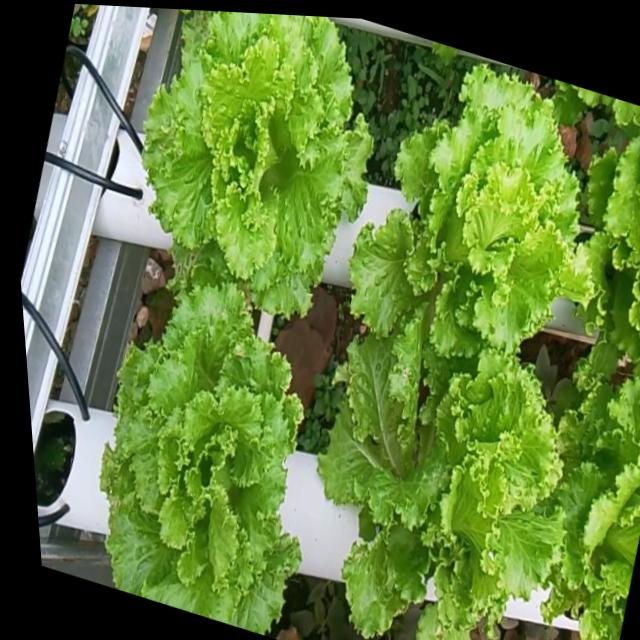Mature: (308, 311, 551, 640), (87, 263, 290, 628), (337, 50, 579, 339), (126, 9, 359, 302)
